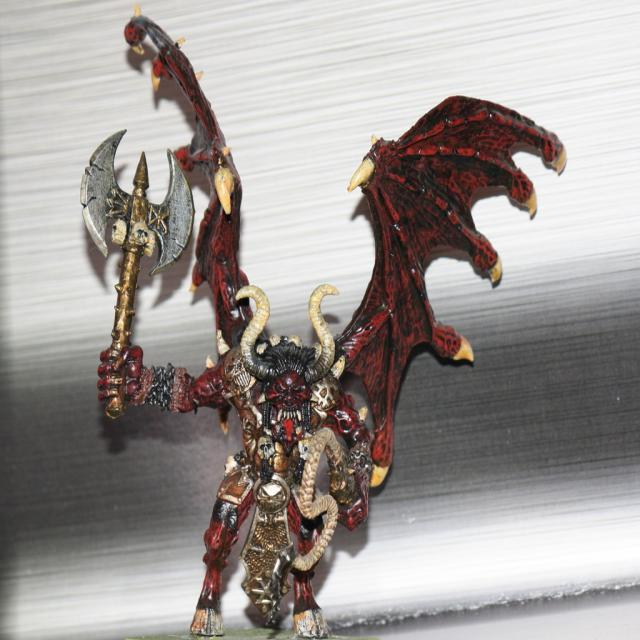Axe: (81, 130, 194, 419)
